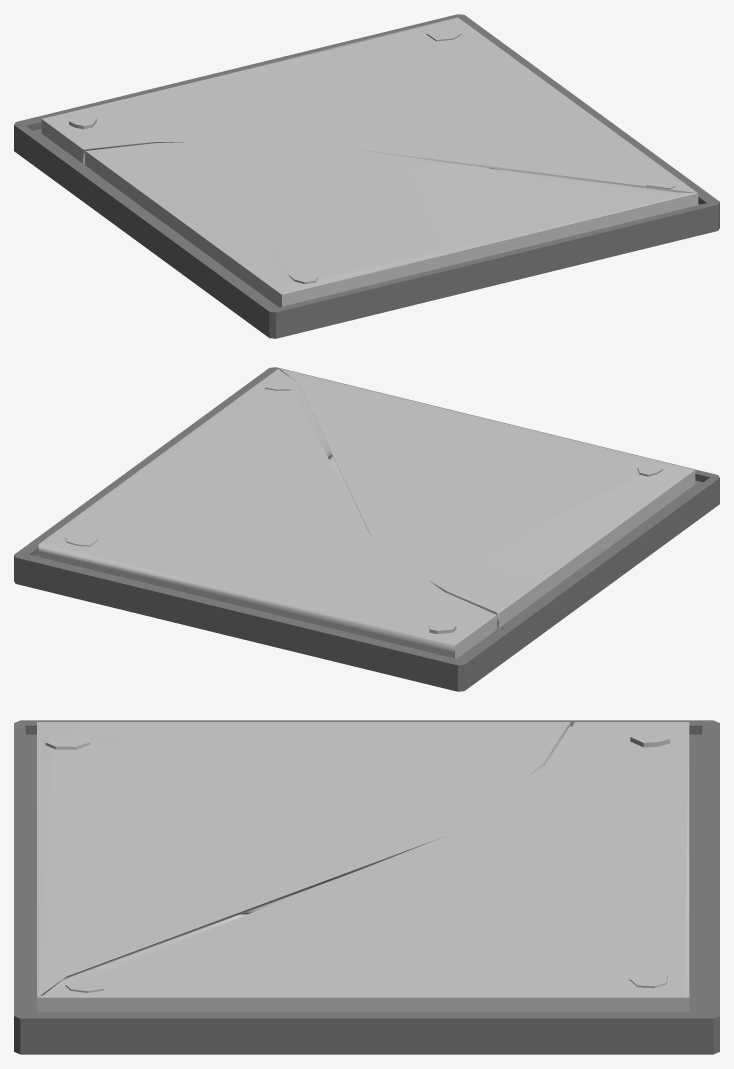
File: plaque.FBX
The picture shows the model from 3 angles, top to bottom: view 1: azimuth 30°, elevation 25°; view 2: azimuth 150°, elevation 25°; view 3: azimuth 270°, elevation 25°; orthographic projection. The views are drawn at different scales.
Parts seen in each view (by area): view 1: Box003, Box002; view 2: Box003, Box002; view 3: Box003, Box002.
Part boxes in pixels (x1,y1,x2,y2): Box003: (41,17,698,307); Box002: (14,14,719,338); Box003: (38,368,695,658); Box002: (14,367,719,691); Box003: (37,722,689,1011); Box002: (14,720,719,1054).
Bounding box in the file's own units: 14.5 × 1.16 × 14.5.
